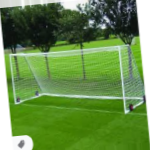goals: (9, 44, 145, 114)
